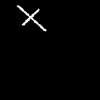single_crochet: (17, 6, 45, 30)
